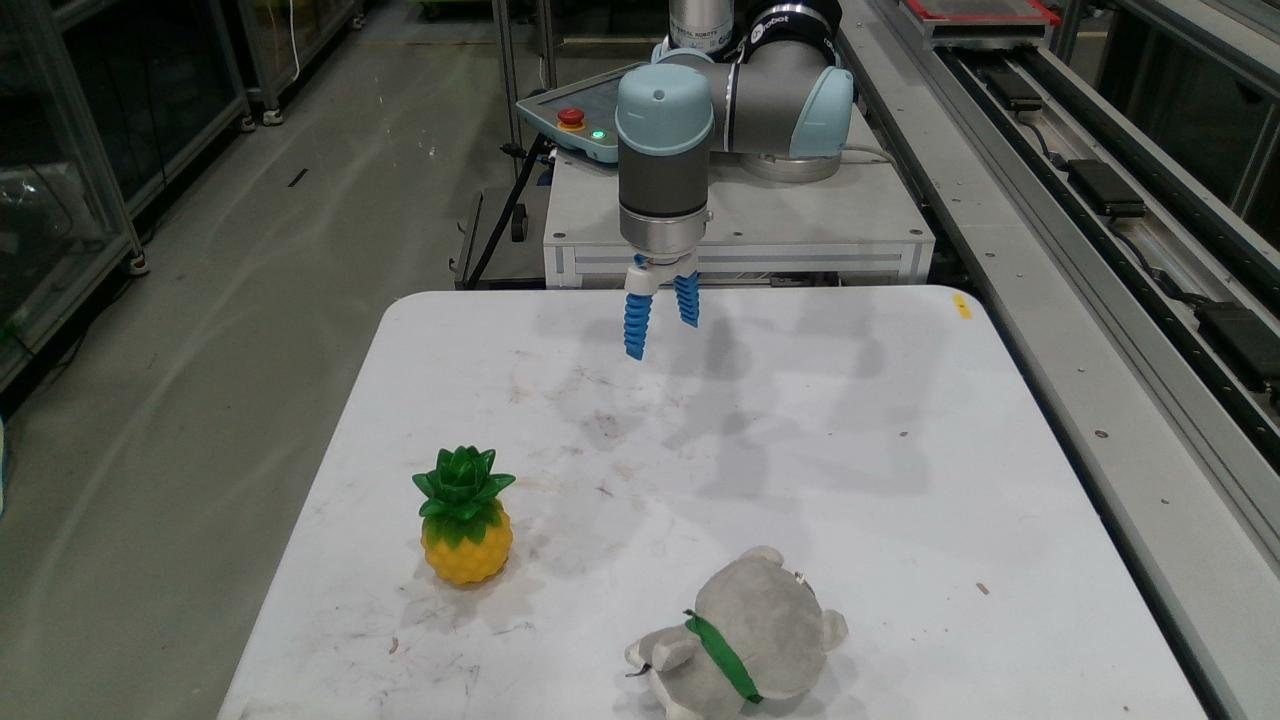UR5: (615, 0, 854, 296)
gripper_left: (623, 294, 653, 360)
gripper_right: (674, 269, 700, 328)
target: (624, 545, 849, 719), (411, 444, 516, 585)
